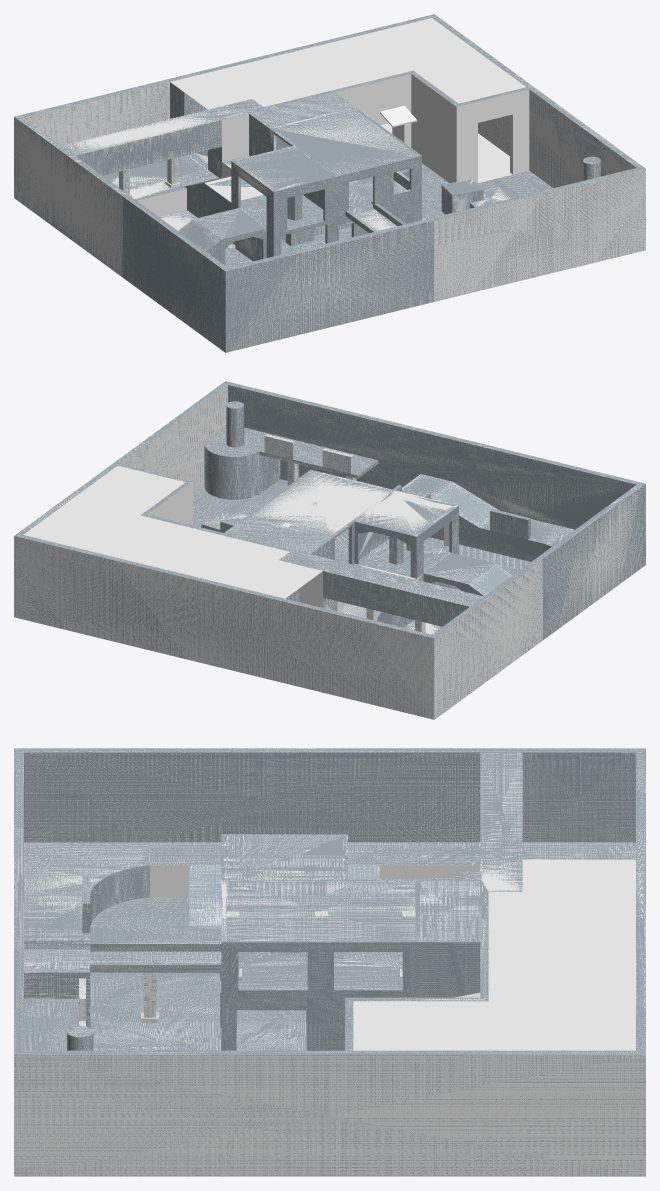
The model's file is MaTestV2.fbx.
3 renders of one model, top to bottom at view 1: azimuth 30°, elevation 25°; view 2: azimuth 150°, elevation 25°; view 3: azimuth 270°, elevation 25°, orthographic. The views are drawn at different scales.
Parts seen in each view (by area): view 1: Model; view 2: Model, Group6, Group7; view 3: Model, Group3.
Boxes of the visible parts, bbox=[...] form: Model: bbox=[14, 14, 645, 352]; Model: bbox=[14, 381, 645, 719]; Group6: bbox=[264, 434, 295, 459]; Group7: bbox=[322, 448, 353, 473]; Model: bbox=[14, 748, 645, 1176]; Group3: bbox=[141, 972, 158, 1023].
Size of the model in its own units: 510 by 94.41 by 444.
